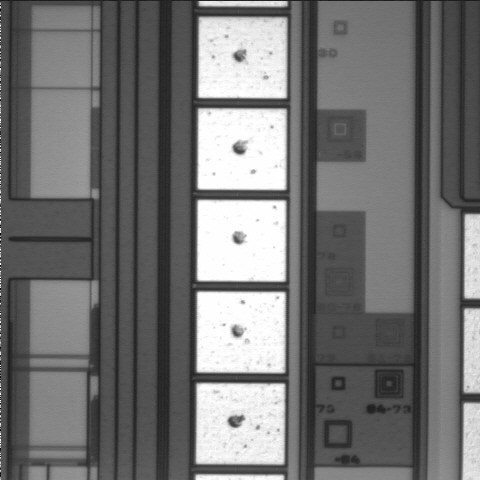pad: (197, 108, 287, 190), (197, 200, 286, 282), (198, 17, 287, 98), (197, 292, 286, 373), (196, 383, 285, 464)
